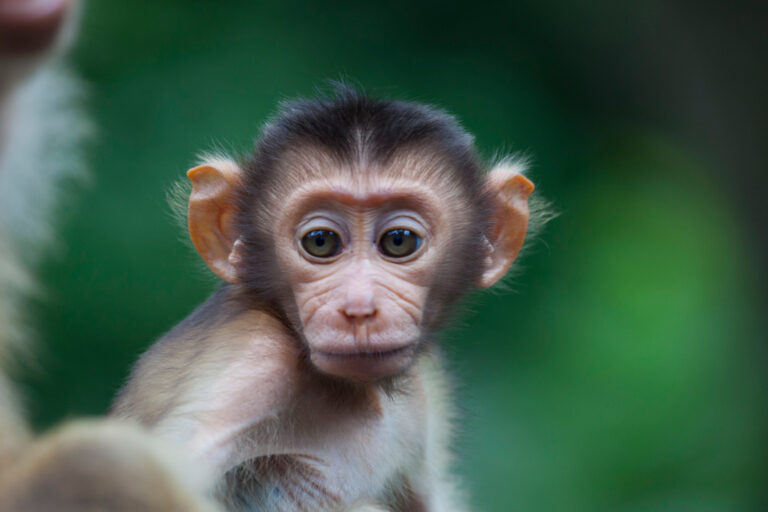monkey_body: (102, 329, 480, 487)
monkey_face: (169, 80, 552, 374)
